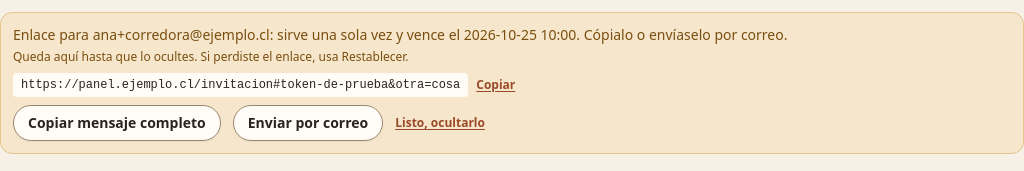
enviar el enlace por correo › Copiar mensaje completo copia el mismo texto del correo, y avisa si no pudo
Click the button "Copiar mensaje completo": [117, 123] box [13, 105, 221, 141]
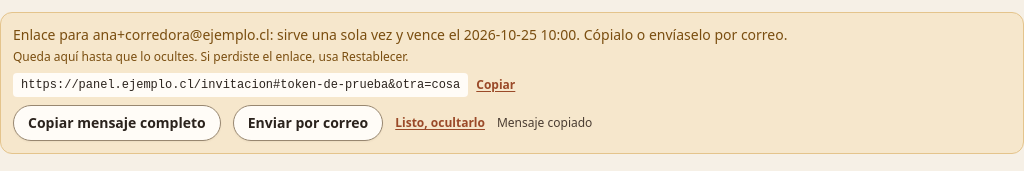
Expected: the text "Mensaje copiado" is shown, [497, 115, 592, 131]
Click the button "Copiar mensaje completo": [117, 123] box [13, 105, 221, 141]
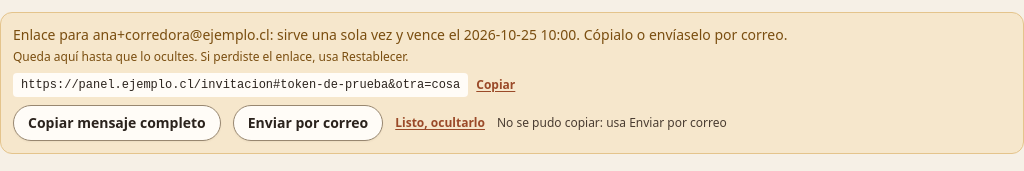
Expected: the text "No se pudo copiar: usa Enviar por correo" is shown, [497, 115, 727, 131]
